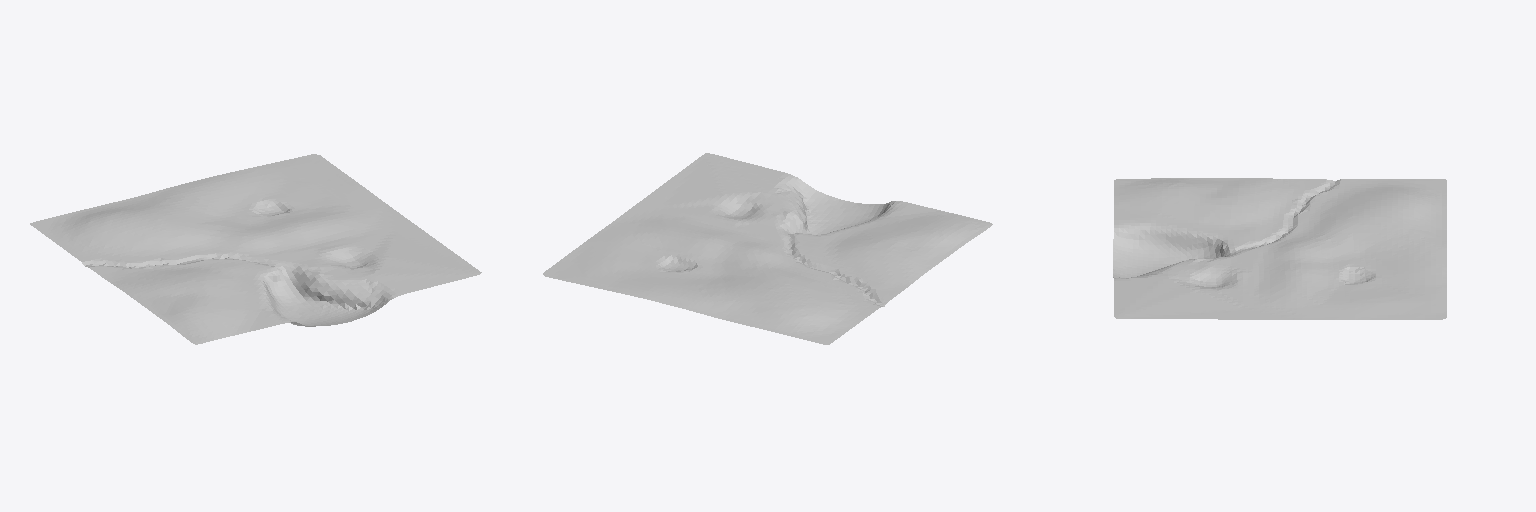
File: World mesh Detailed.obj
The picture shows the model from 3 angles: view 1: azimuth 30°, elevation 25°; view 2: azimuth 150°, elevation 25°; view 3: azimuth 270°, elevation 25°; orthographic projection.
Visible parts, largest first — view 1: World_collider_Detailed; view 2: World_collider_Detailed; view 3: World_collider_Detailed.
Boxes of the visible parts, x1,y1,x2,y2 form: World_collider_Detailed: [30, 154, 481, 344]; World_collider_Detailed: [543, 153, 992, 344]; World_collider_Detailed: [1113, 178, 1446, 319].
Size of the model in its own units: 39.96 by 3.68 by 40.